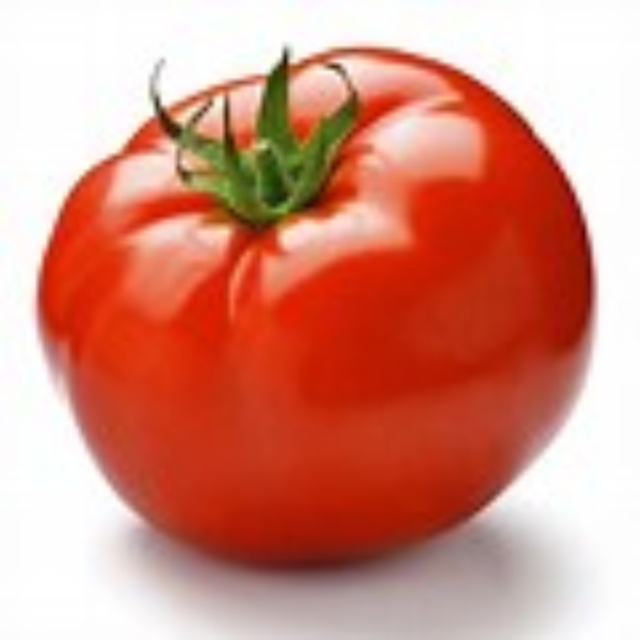tomato: (42, 49, 596, 573)
